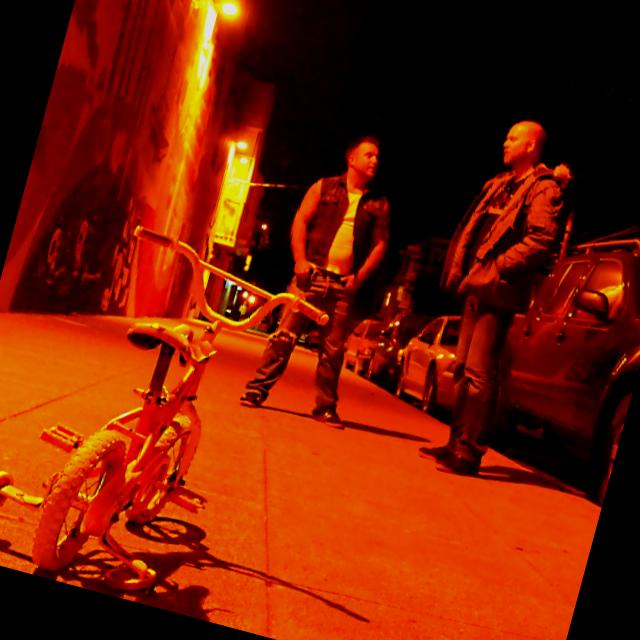Vehicle: (467, 211, 640, 513), (387, 300, 476, 420), (362, 304, 432, 395), (337, 312, 391, 378), (304, 322, 322, 351)
